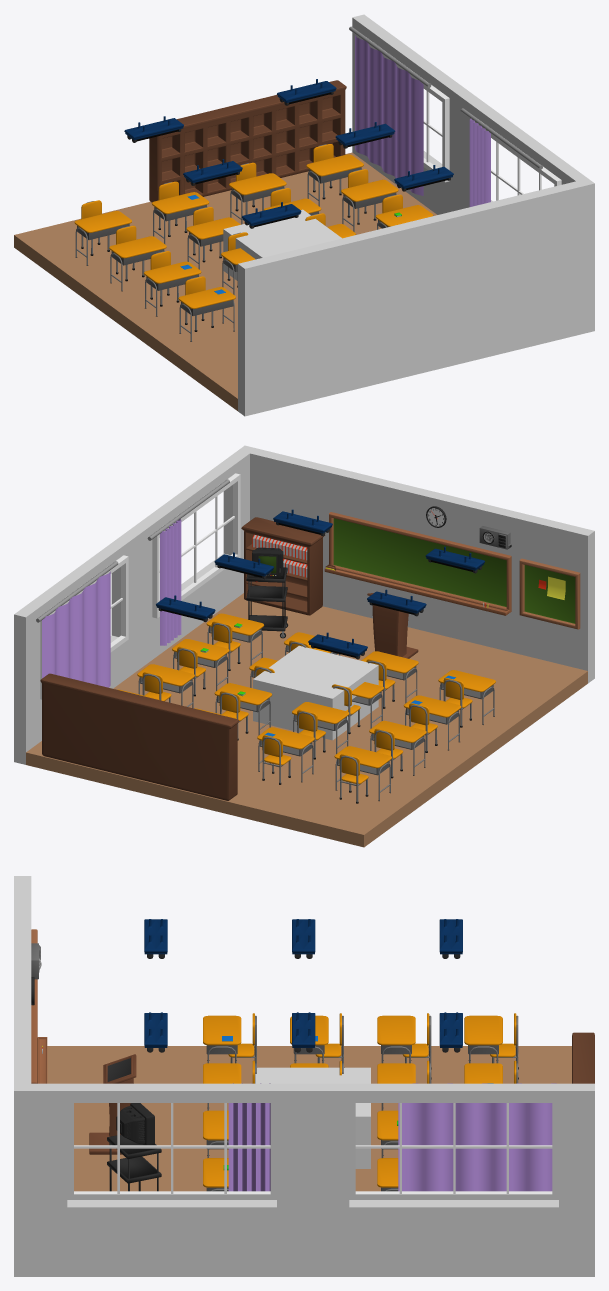
File: classroom_scene_colored.fbx
The picture shows the model from 3 angles, top to bottom: view 1: azimuth 30°, elevation 25°; view 2: azimuth 150°, elevation 25°; view 3: azimuth 270°, elevation 25°; orthographic projection. The views are drawn at different scales.
Parts seen in each view (by area): view 1: demoscene_21, demoscene_7, demoscene_9, demoscene_18, demoscene_10, Cube, demoscene_19; view 2: demoscene_21, demoscene_7, demoscene_9, demoscene, Cube, demoscene_18, demoscene_10, demoscene_8, demoscene_1, demoscene_19, demoscene_13, demoscene_12 (+2 smaller); view 3: demoscene_21, demoscene_7, demoscene_18, demoscene_10, demoscene_19, demoscene_13, Cube, demoscene_12, demoscene_9, demoscene.
Boxes of the visible parts, x1=… form: demoscene_21: x1=14, y1=14, x2=594, y2=416; demoscene_7: x1=74, y1=144, x2=433, y2=341; demoscene_9: x1=149, y1=80, x2=346, y2=202; demoscene_18: x1=349, y1=26, x2=431, y2=195; demoscene_10: x1=124, y1=79, x2=453, y2=228; Cube: x1=223, y1=209, x2=341, y2=280; demoscene_19: x1=460, y1=108, x2=542, y2=206; demoscene_21: x1=14, y1=445, x2=594, y2=847; demoscene_7: x1=117, y1=613, x2=495, y2=803; demoscene_9: x1=40, y1=673, x2=239, y2=800; demoscene: x1=324, y1=512, x2=511, y2=615; Cube: x1=253, y1=645, x2=378, y2=740; demoscene_18: x1=36, y1=561, x2=118, y2=687; demoscene_10: x1=156, y1=509, x2=484, y2=659; demoscene_8: x1=241, y1=517, x2=325, y2=615; demoscene_1: x1=519, y1=558, x2=580, y2=629; demoscene_19: x1=147, y1=479, x2=229, y2=645; demoscene_13: x1=246, y1=547, x2=288, y2=638; demoscene_12: x1=367, y1=593, x2=418, y2=658; demoscene_21: x1=14, y1=876, x2=594, y2=1276; demoscene_7: x1=203, y1=1013, x2=518, y2=1191; demoscene_18: x1=398, y1=1083, x2=556, y2=1191; demoscene_10: x1=144, y1=919, x2=462, y2=1052; demoscene_19: x1=228, y1=1083, x2=270, y2=1191; demoscene_13: x1=107, y1=1103, x2=161, y2=1191; Cube: x1=255, y1=1067, x2=370, y2=1168; demoscene_12: x1=89, y1=1054, x2=136, y2=1154; demoscene_9: x1=572, y1=1032, x2=594, y2=1083; demoscene: x1=31, y1=979, x2=47, y2=1083.
Bounding box in the file's own units: 8.78 × 4.24 × 10.03.
4 materials, 2 textured.
